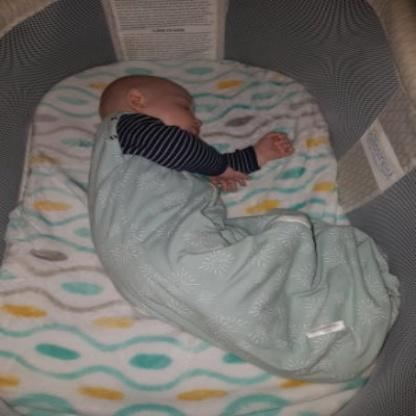baby: (87, 73, 296, 237)
